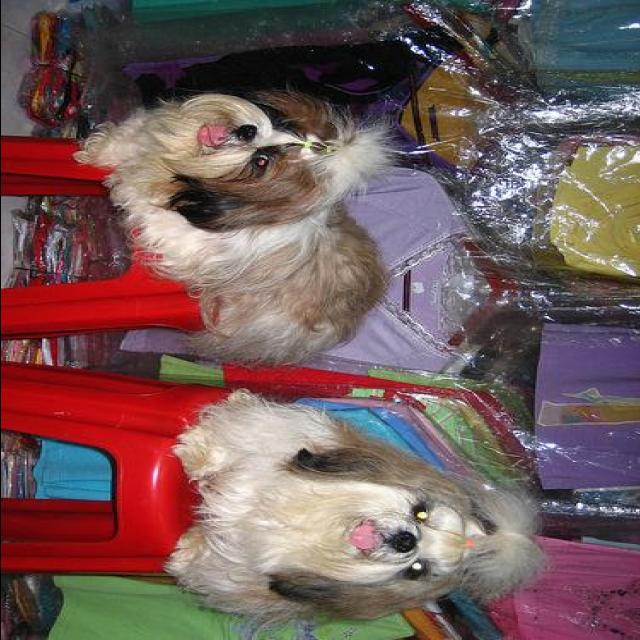shih_tzu: (166, 385, 542, 627), (80, 86, 389, 365)
